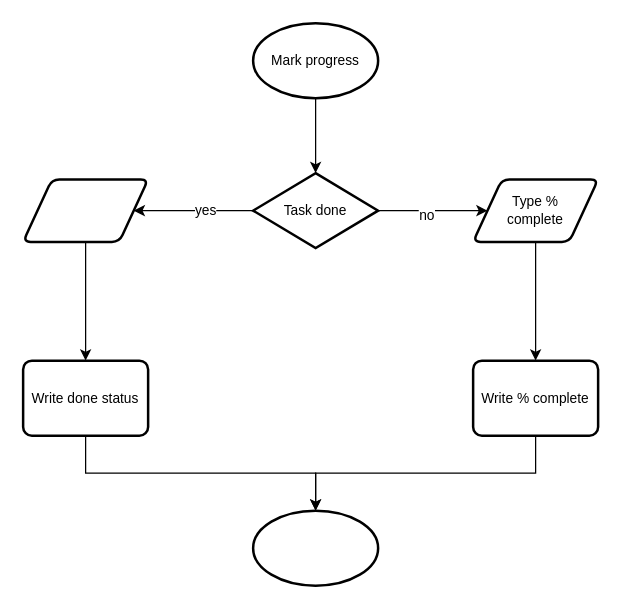
Some shapes in this 620 by 608 pixel diagram are drawn without their labels. Each missing label, with the centre of its shape:
Click "Done" button: (x=85, y=210)
End: (x=315, y=547)
